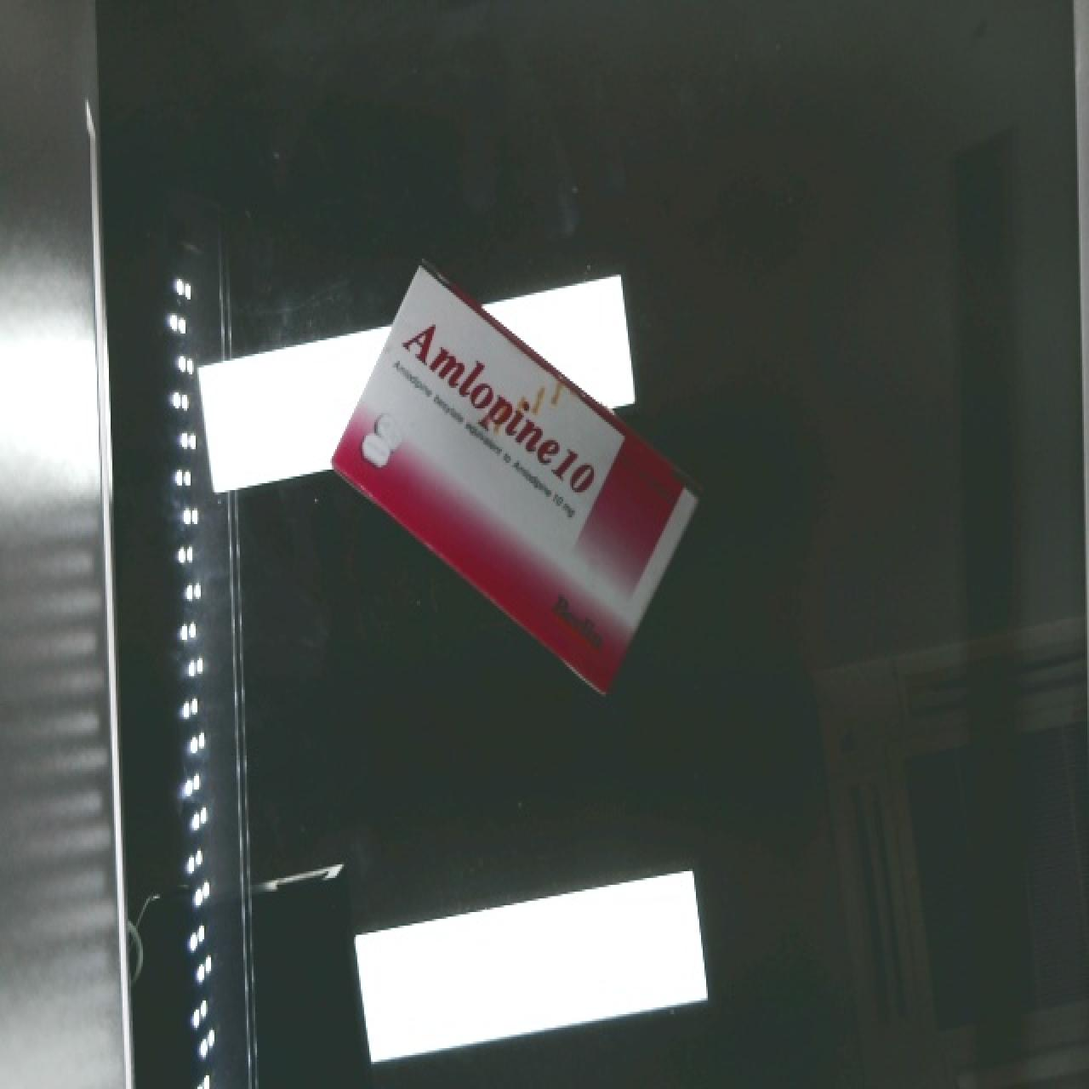medicine_label_obb: (360, 282, 626, 531)
